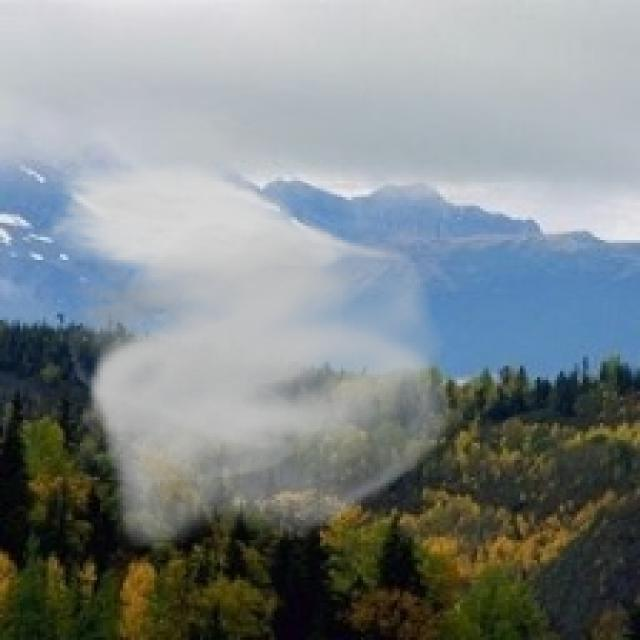smoke: (40, 157, 463, 549)
